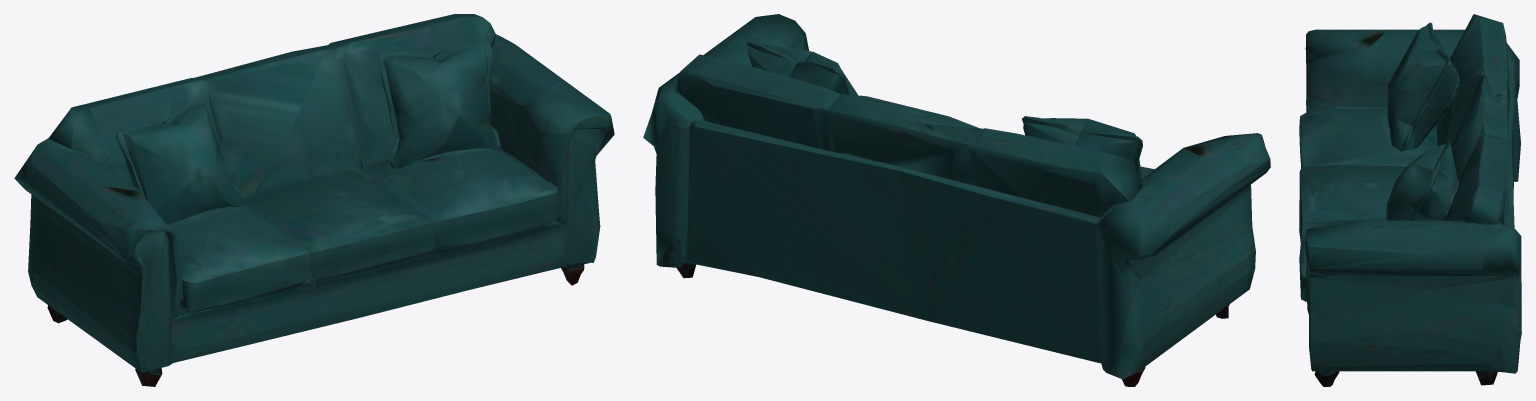
Rendered from sofa.lod1.glb.
3 views of the same model, side by side, from view 1: azimuth 30°, elevation 25°; view 2: azimuth 150°, elevation 25°; view 3: azimuth 270°, elevation 25° (orthographic). The views are drawn at different scales.
Bounding box in the file's own units: 2.1 × 0.8497 × 0.8993.
Materials: 1 (1 with a texture image).
